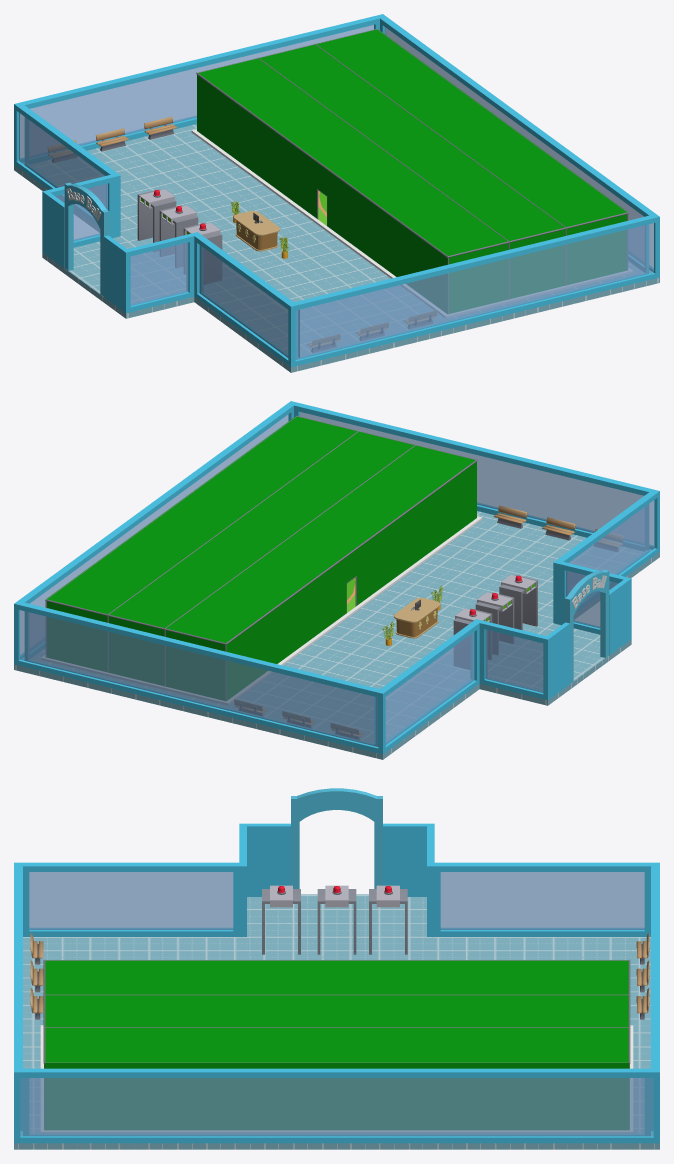
File: Base_Ball.fbx
3 views of the same model, one above another, from view 1: azimuth 30°, elevation 25°; view 2: azimuth 150°, elevation 25°; view 3: azimuth 270°, elevation 25° (orthographic). The views are drawn at different scales.
Visible parts, largest first — view 1: Net_00, polySurface5, polySurface4, Gate, Security_Gate2, Security_Gate, Counter_Table, Security_Gate1; view 2: Net_00, polySurface5, polySurface4, Gate, Security_Gate1, Counter_Table, Security_Gate, Security_Gate2; view 3: Net_00, polySurface5, polySurface4, Gate, Security_Gate, Security_Gate2, Security_Gate1.
Boxes of the visible parts, x1=… form: Net_00: x1=191, y1=28, x2=632, y2=317; polySurface5: x1=14, y1=14, x2=659, y2=367; polySurface4: x1=14, y1=124, x2=659, y2=372; Gate: x1=64, y1=182, x2=109, y2=296; Security_Gate2: x1=137, y1=189, x2=176, y2=251; Security_Gate: x1=159, y1=205, x2=198, y2=267; Counter_Table: x1=233, y1=210, x2=280, y2=251; Security_Gate1: x1=183, y1=222, x2=222, y2=284; Net_00: x1=41, y1=415, x2=482, y2=704; polySurface5: x1=14, y1=401, x2=659, y2=754; polySurface4: x1=14, y1=511, x2=659, y2=759; Gate: x1=564, y1=569, x2=609, y2=683; Security_Gate1: x1=499, y1=575, x2=537, y2=630; Counter_Table: x1=393, y1=597, x2=440, y2=638; Security_Gate: x1=475, y1=592, x2=514, y2=654; Security_Gate2: x1=453, y1=608, x2=492, y2=669; Net_00: x1=40, y1=959, x2=633, y2=1133; polySurface5: x1=14, y1=823, x2=659, y2=1143; polySurface4: x1=14, y1=894, x2=659, y2=1149; Gate: x1=291, y1=788, x2=382, y2=888; Security_Gate: x1=317, y1=885, x2=356, y2=954; Security_Gate2: x1=369, y1=885, x2=407, y2=954; Security_Gate1: x1=262, y1=885, x2=300, y2=954.
Bounding box in the file's own units: 106 × 22.31 × 116.
8 materials, 7 textured.
